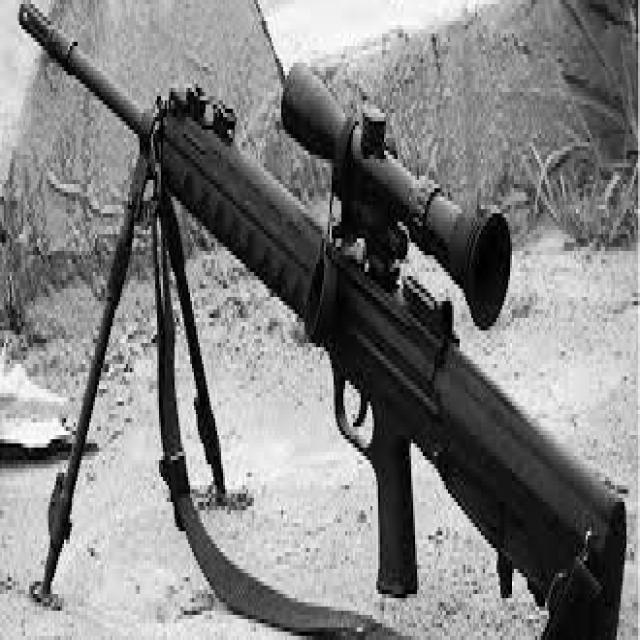gun: (18, 0, 626, 636)
